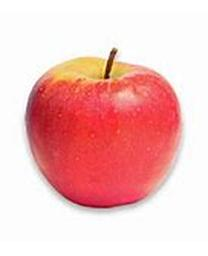apple: (22, 48, 183, 208)
